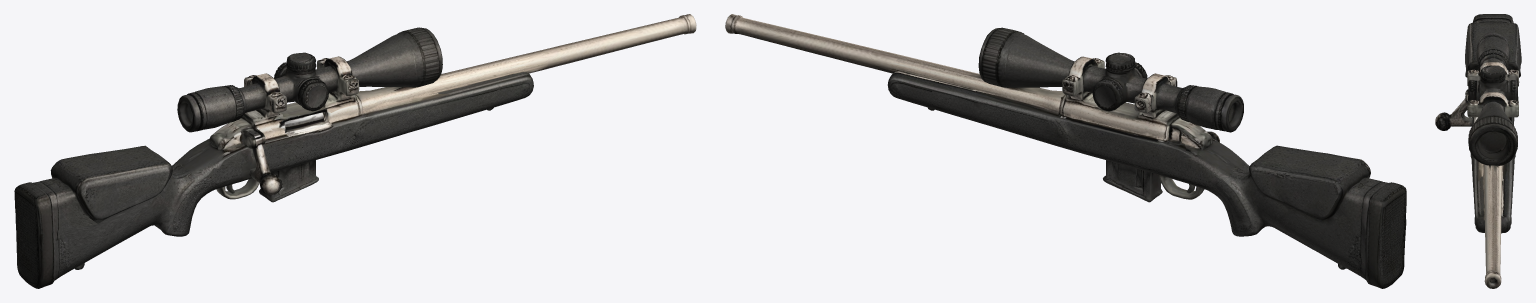
The model's file is sniper.glb.
The picture shows the model from 3 angles, left to right: view 1: azimuth 30°, elevation 25°; view 2: azimuth 150°, elevation 25°; view 3: azimuth 270°, elevation 25°; orthographic projection. The views are drawn at different scales.
Visible parts, largest first — view 1: tripo_node_f7dfa849-7671-4b3b-b6d3-f1f42dd37d42; view 2: tripo_node_f7dfa849-7671-4b3b-b6d3-f1f42dd37d42; view 3: tripo_node_f7dfa849-7671-4b3b-b6d3-f1f42dd37d42.
Part boxes in pixels (x1,y1,x2,y2): tripo_node_f7dfa849-7671-4b3b-b6d3-f1f42dd37d42: (14, 14, 696, 288); tripo_node_f7dfa849-7671-4b3b-b6d3-f1f42dd37d42: (725, 14, 1406, 288); tripo_node_f7dfa849-7671-4b3b-b6d3-f1f42dd37d42: (1435, 14, 1521, 288).
Size of the model in its own units: 0.9804 by 0.2286 by 0.1306.
1 material, 1 textured.
